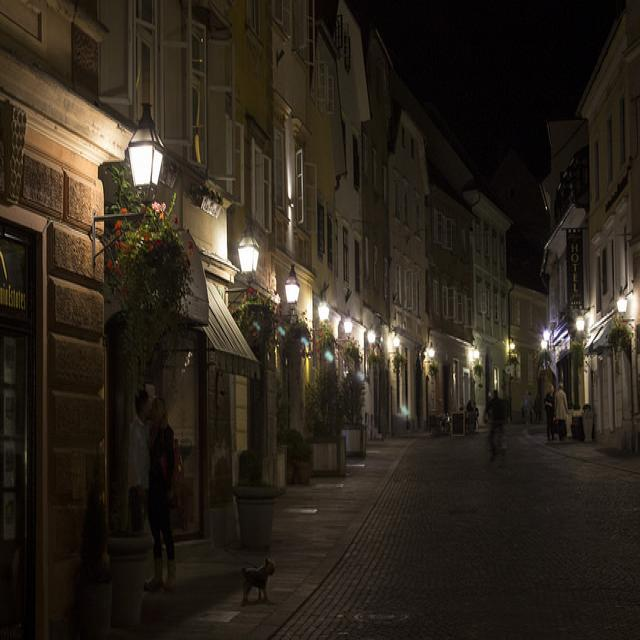Dog: (215, 552, 310, 628)
